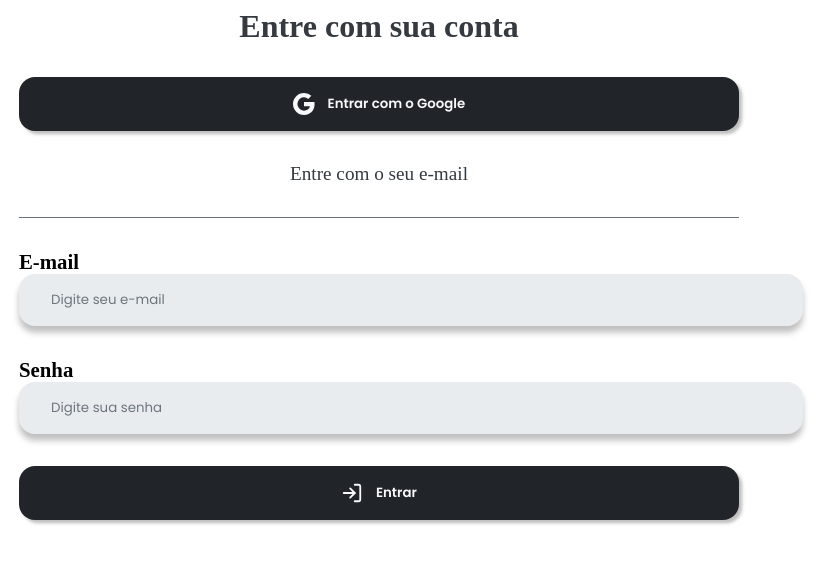
it: Login › should show an error if password is not valid
Type "lorem@ipsum.com" into the field with placeholder "Digite seu e-mail".
click(411, 300); type("lorem@ipsum.com")  # box [19,274,803,326]
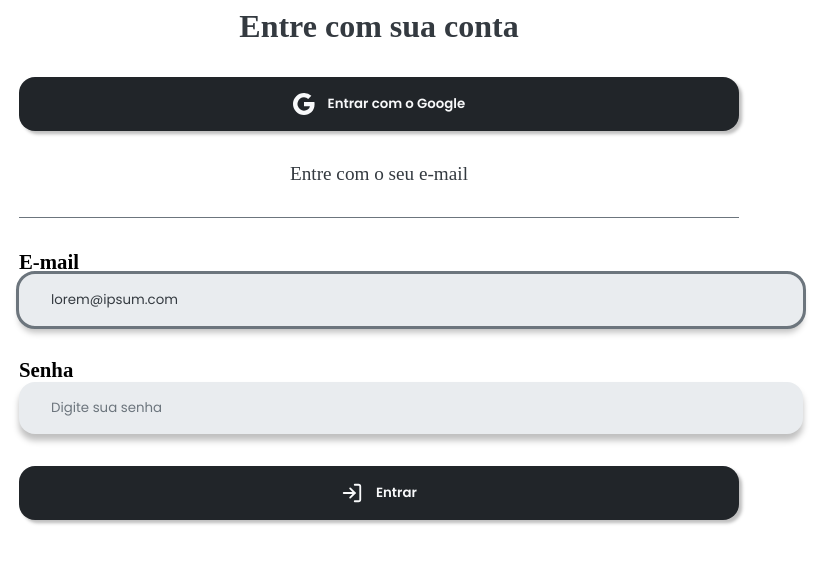
Type "123456" into the password field with placeholder "Digite sua senha".
click(411, 408); type("123456")  # box [19,382,803,434]
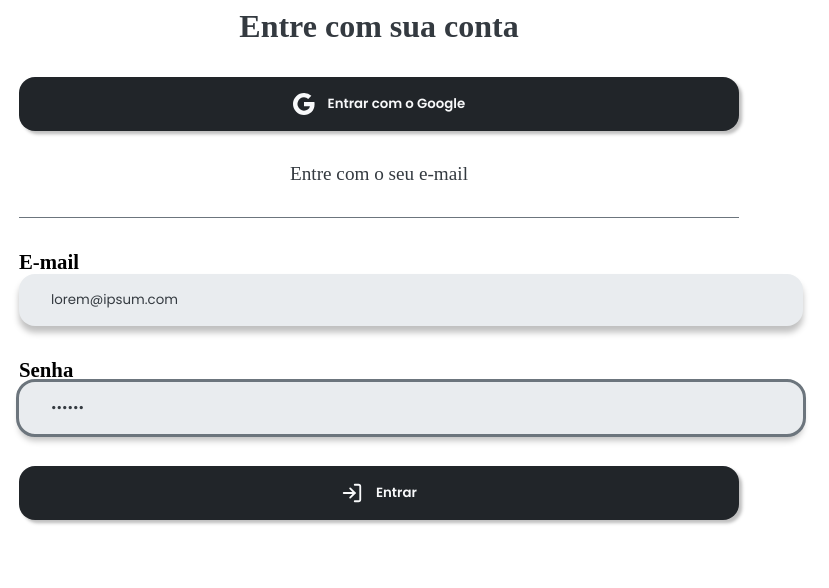
Click the button "Entrar".
click(379, 493)  # box [19,466,739,520]
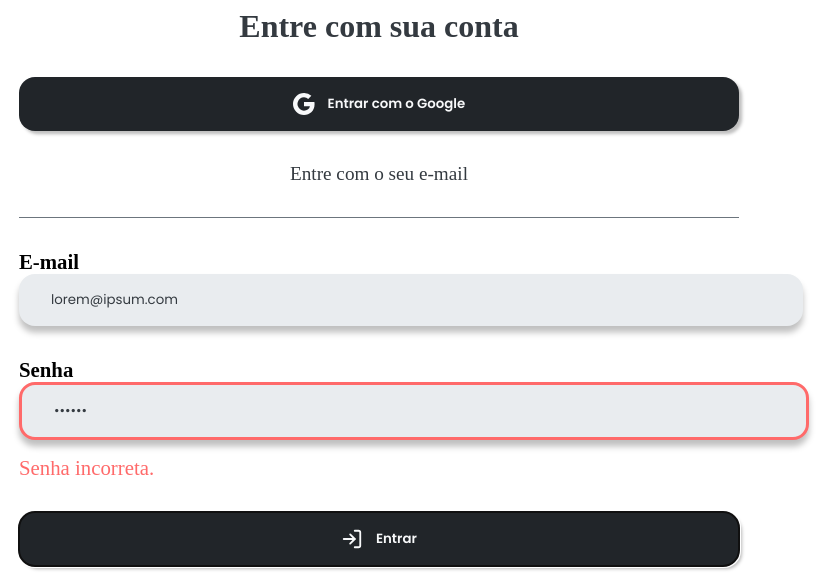
expect the text "Senha incorreta." is shown: met, box [19,456,154,479]
